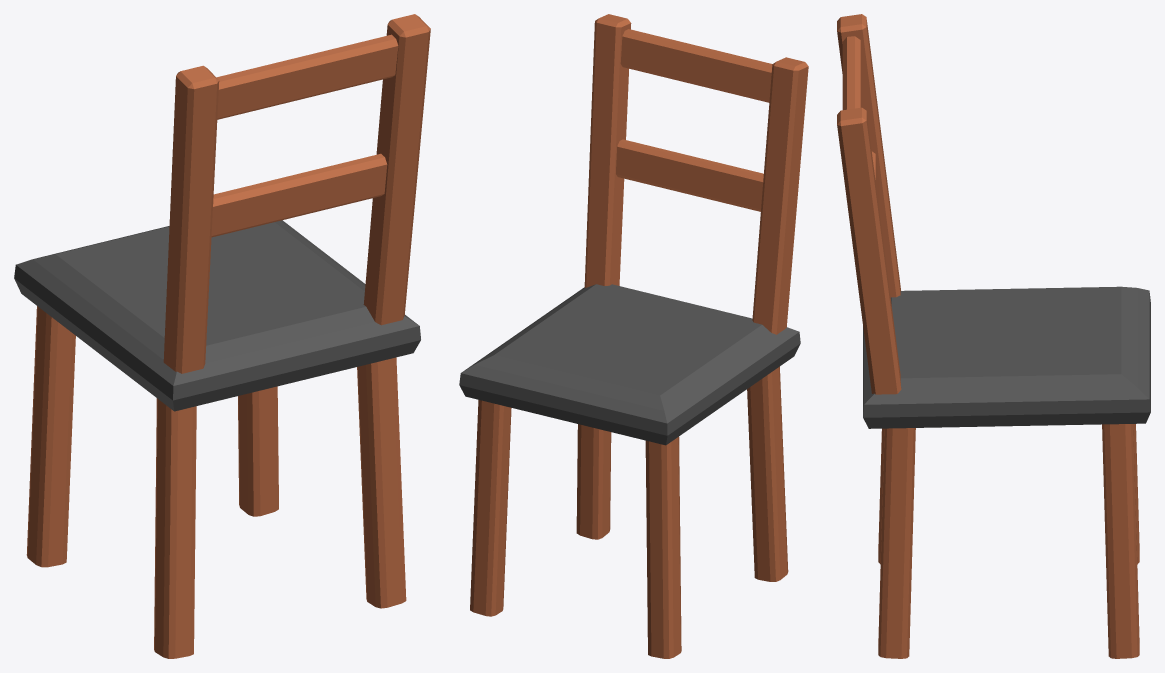
File: Chair2black.fbx
3 renders of one model, left to right at view 1: azimuth 30°, elevation 25°; view 2: azimuth 150°, elevation 25°; view 3: azimuth 270°, elevation 25°, orthographic. The views are drawn at different scales.
Parts seen in each view (by area): view 1: chair 2 Black; view 2: chair 2 Black; view 3: chair 2 Black.
Part boxes in pixels (<box>): chair 2 Black: <box>14,14,430,658</box>; chair 2 Black: <box>459,14,808,658</box>; chair 2 Black: <box>837,14,1150,658</box>.
Size of the model in its own units: 135 by 310 by 163.
1 material, 1 textured.
